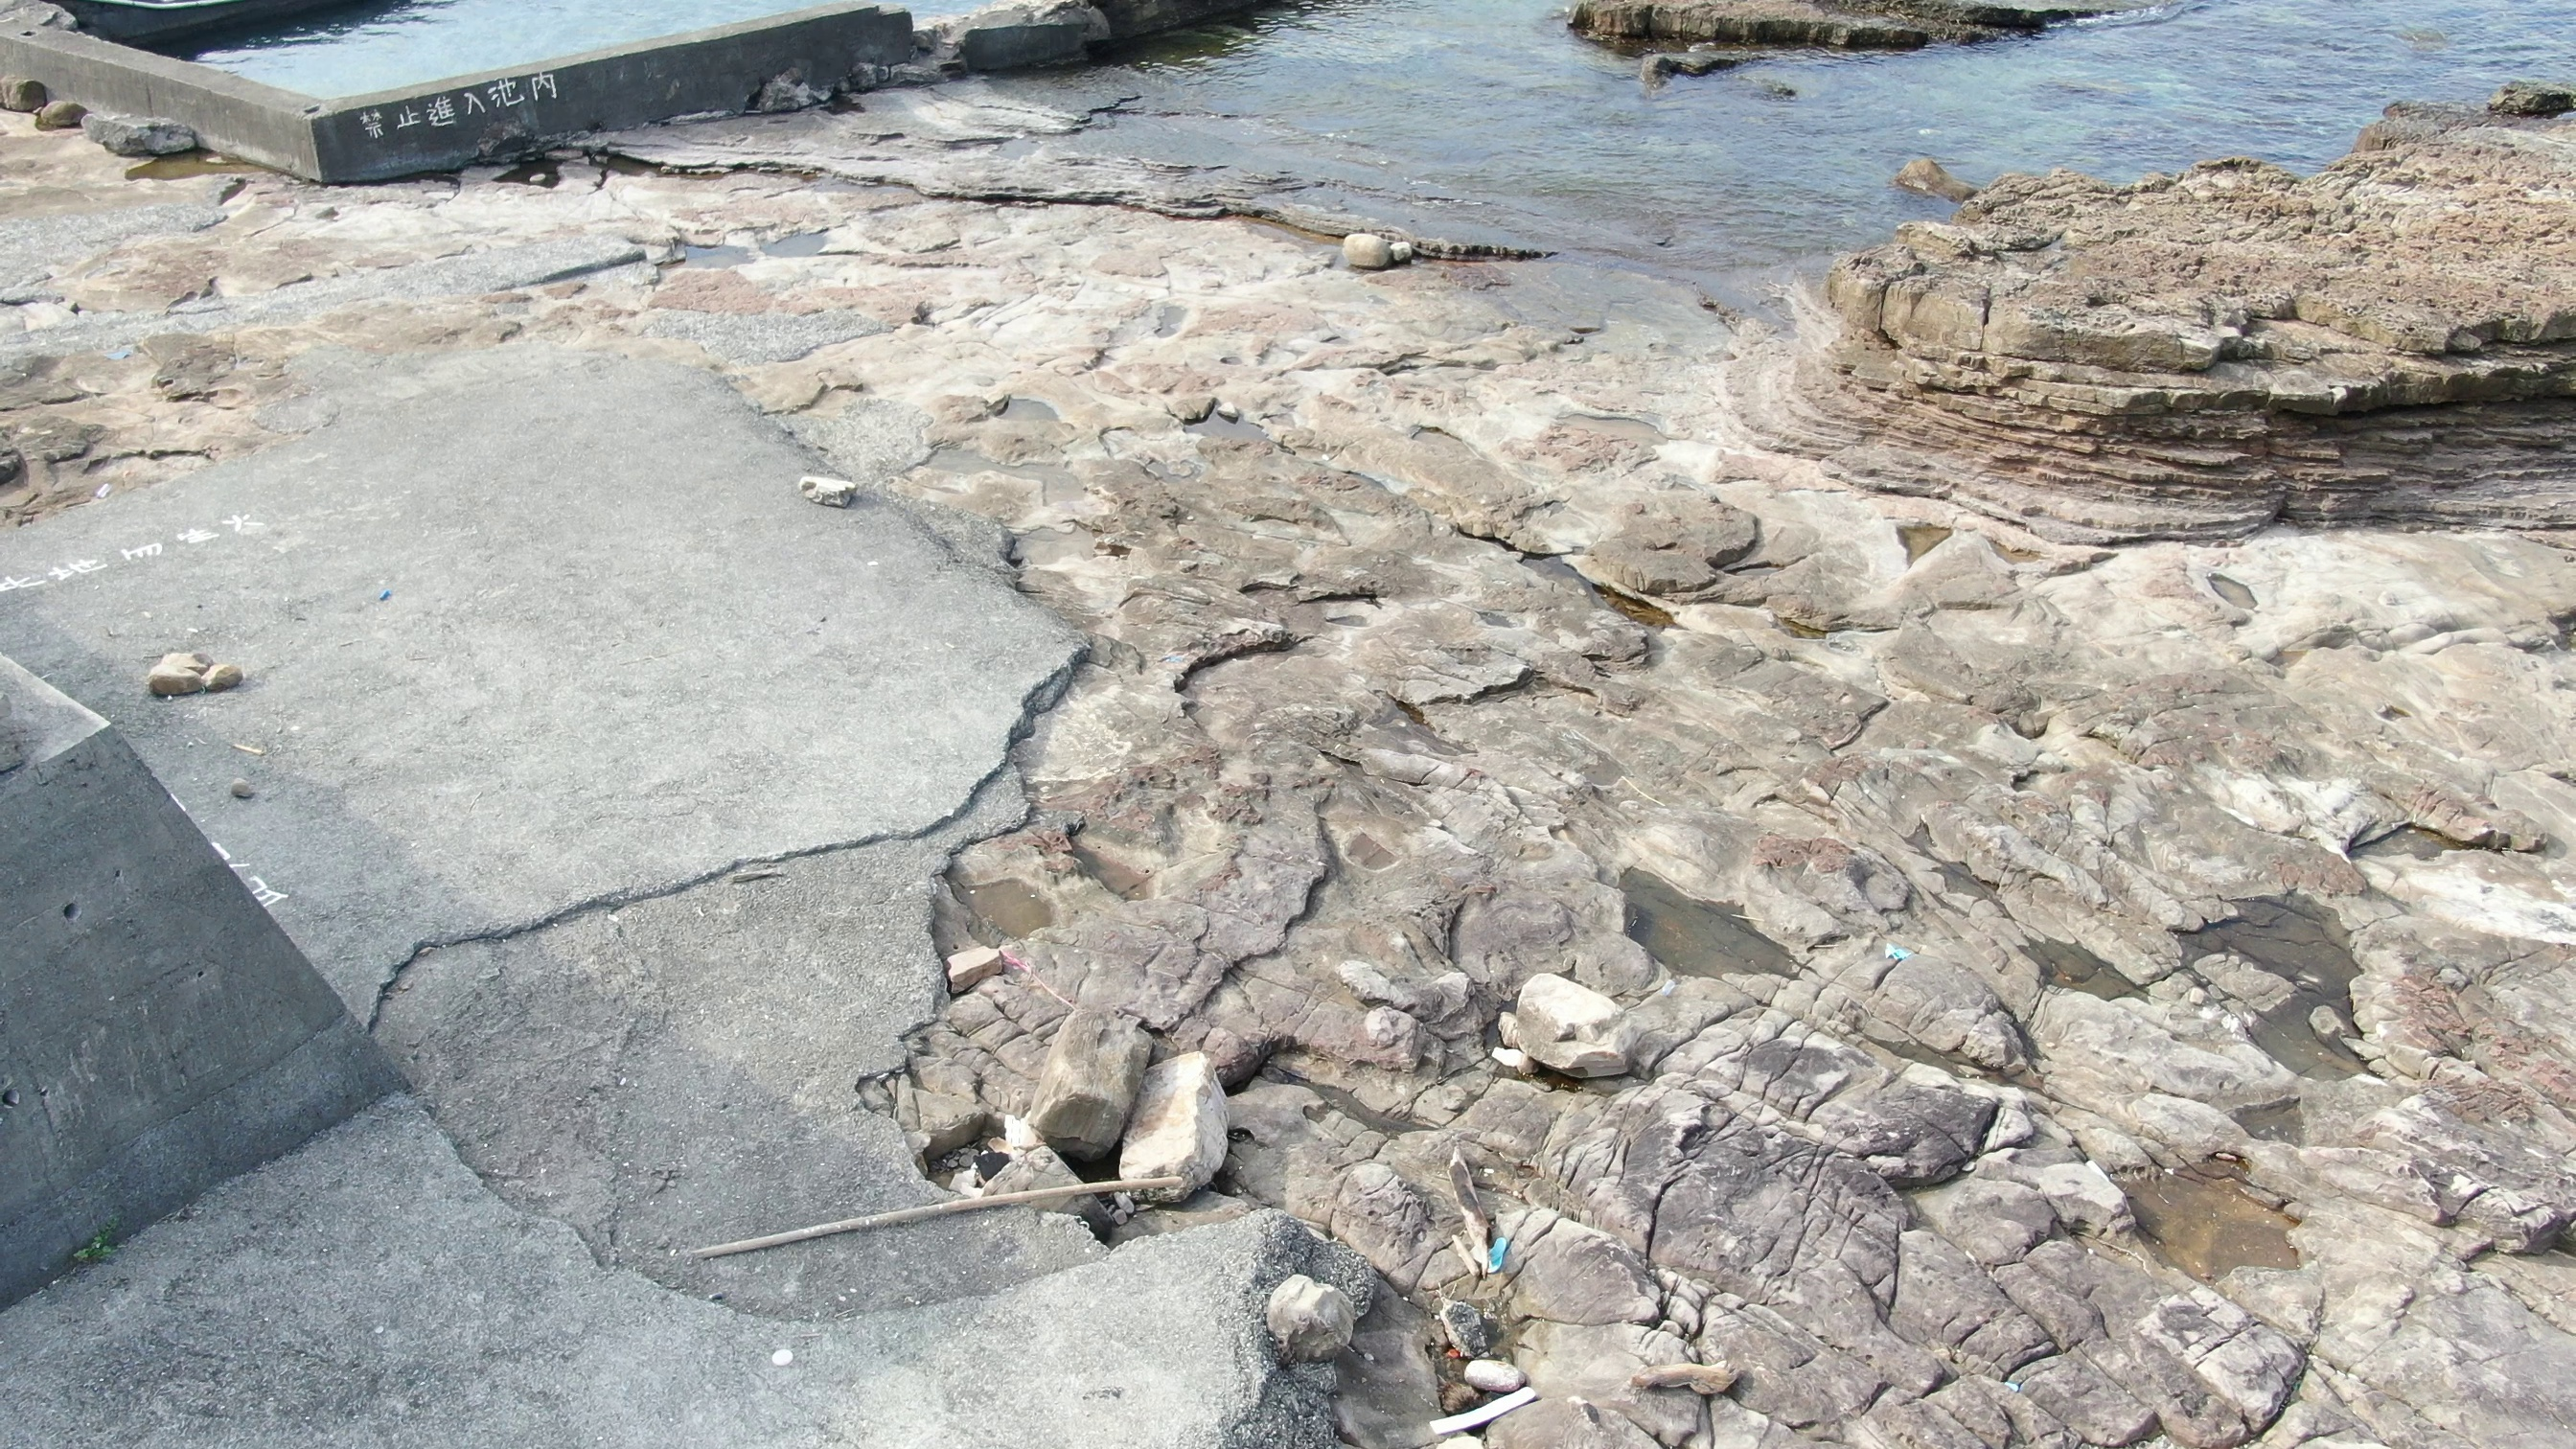garbage: (1468, 1226, 1518, 1292), (1875, 931, 1925, 977), (375, 582, 407, 616)
